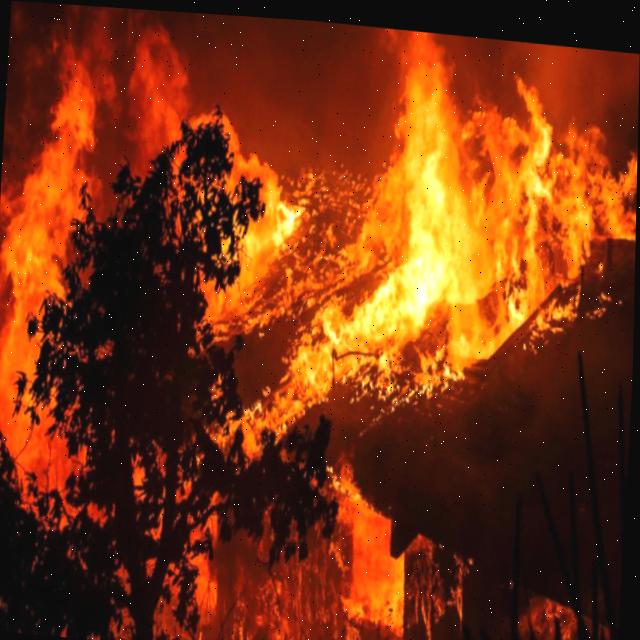fire: (238, 50, 638, 447), (0, 85, 89, 488), (342, 463, 407, 640)
smoke: (174, 14, 402, 168), (444, 27, 640, 136)
